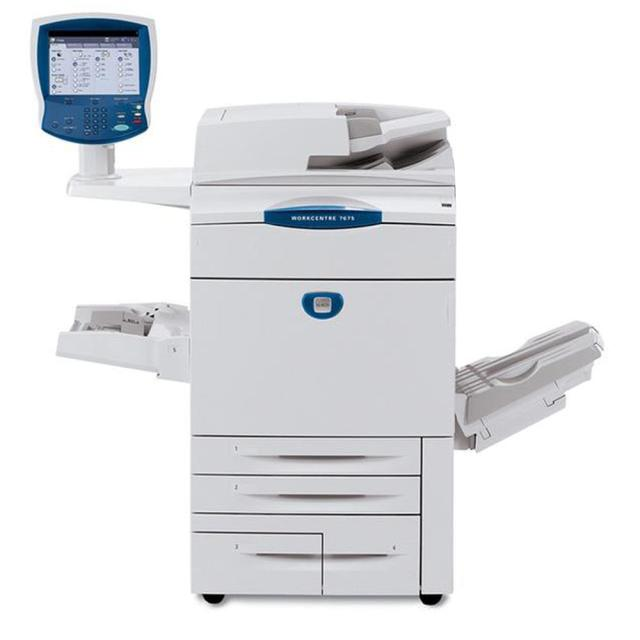printer: (30, 11, 604, 608)
